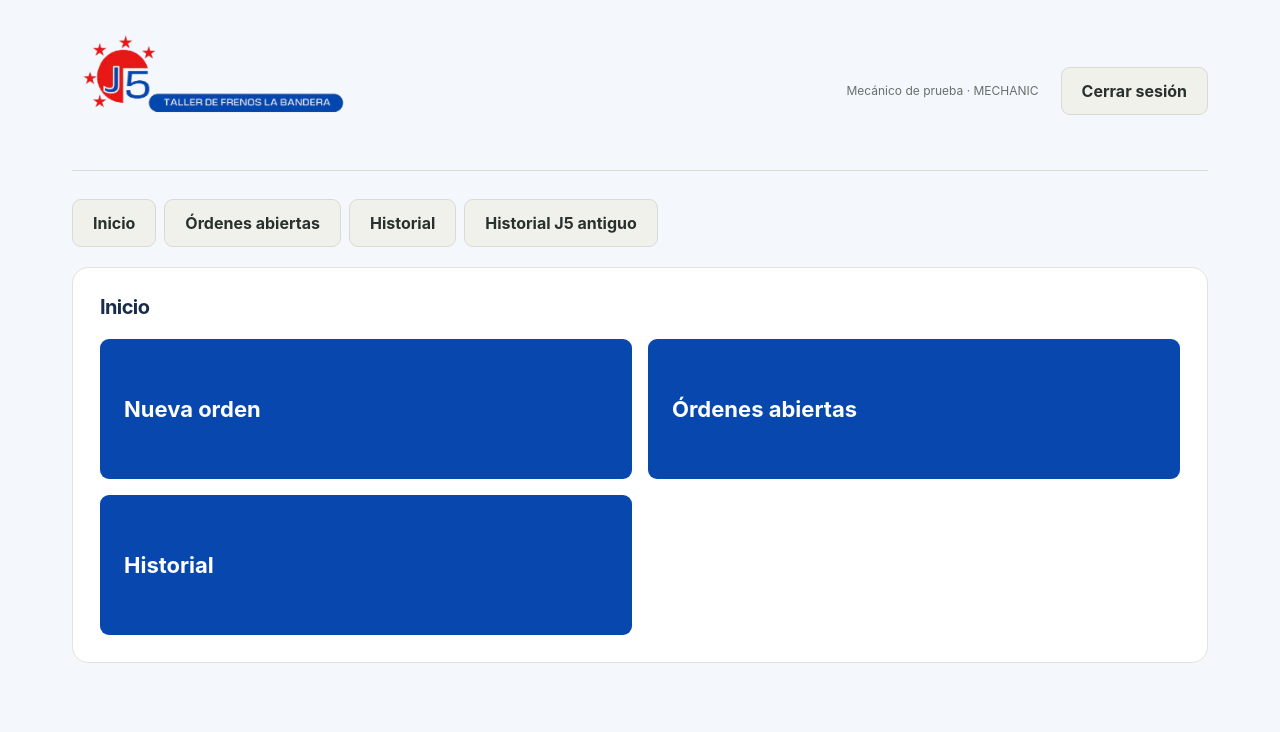
scopes a logout failure to its control and clears it on module change
Click the button "Cerrar sesión" at (1134, 91), box left=1060, top=67, right=1208, bottom=115
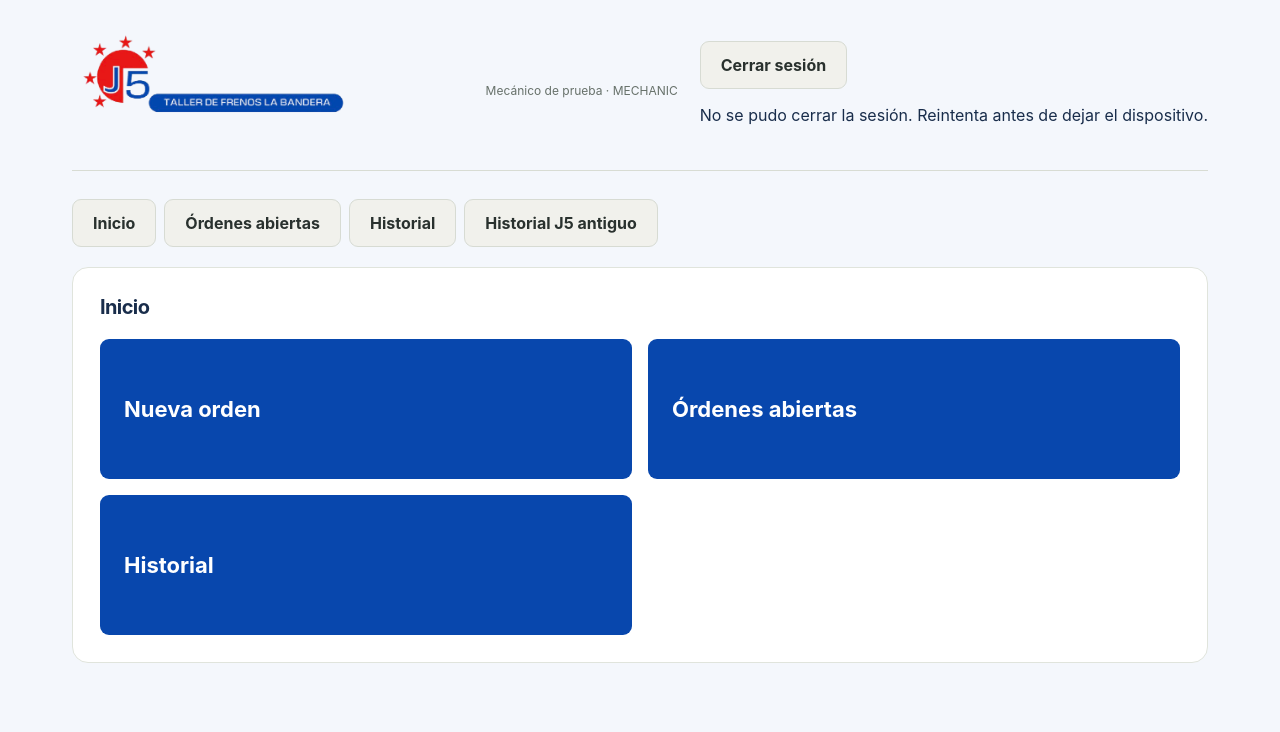
Expected: the message "No se pudo cerrar la sesión. Reintenta antes de dejar el dispositivo." is shown, left=700, top=105, right=1208, bottom=125
Click the 1st button "Historial" at (403, 223), box left=349, top=199, right=456, bottom=247
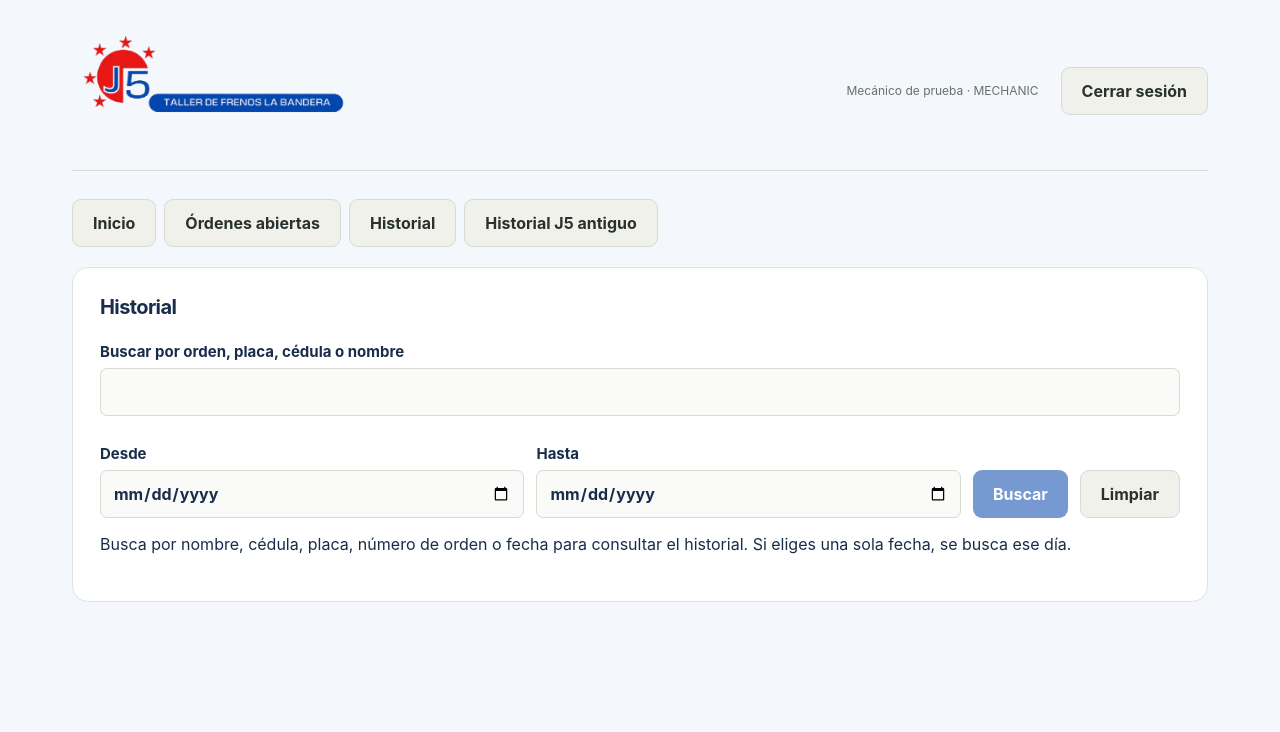
Expected: the message "No se pudo cerrar la sesión. Reintenta antes de dejar el dispositivo." is gone
